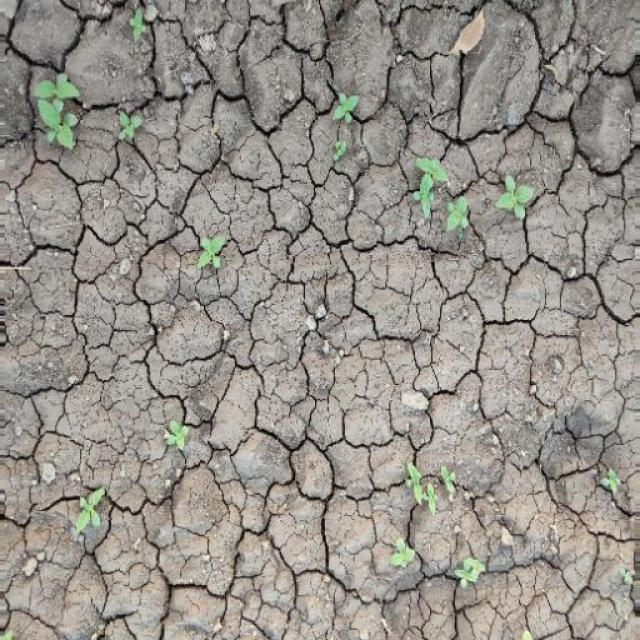crop: (23, 65, 154, 165), (414, 140, 541, 242), (373, 542, 502, 594), (55, 479, 121, 541), (320, 79, 364, 170), (388, 464, 463, 506), (150, 408, 202, 458), (191, 222, 230, 278)
